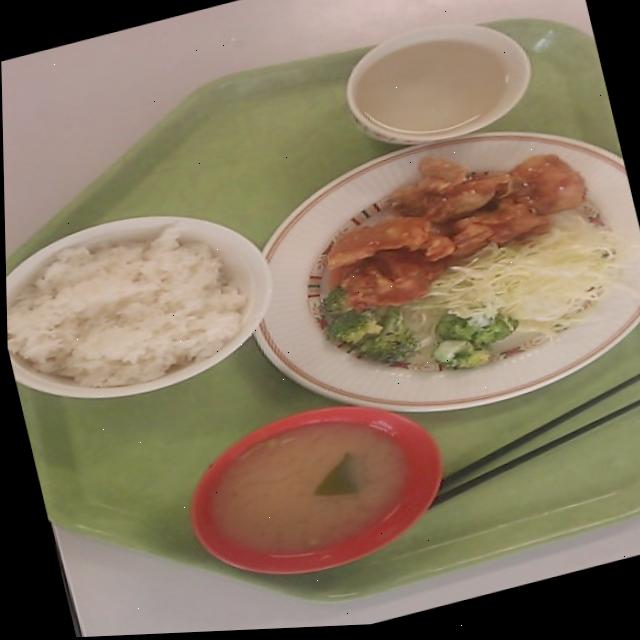汤锅炖物: (163, 386, 447, 609)
米饭主食: (3, 189, 280, 436)
蔬菜料理: (302, 196, 640, 415)
鸡肉料理 含炸鸡: (291, 139, 584, 317)
